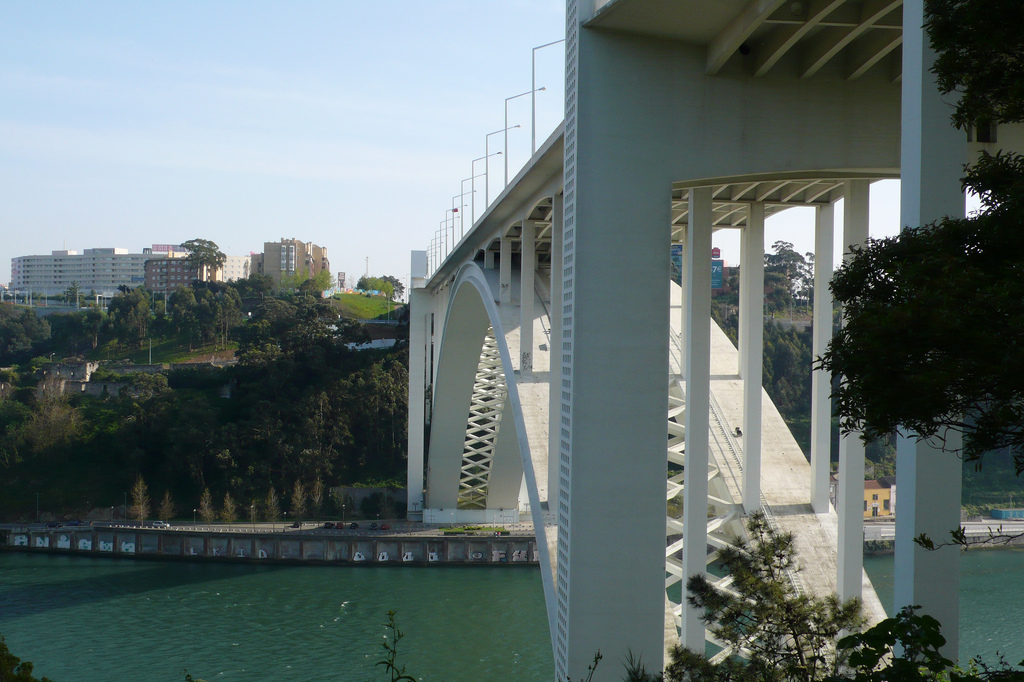arrabida: (408, 0, 1023, 681)
